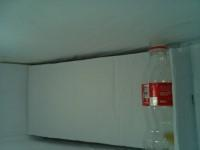bottle: (141, 39, 174, 150)
